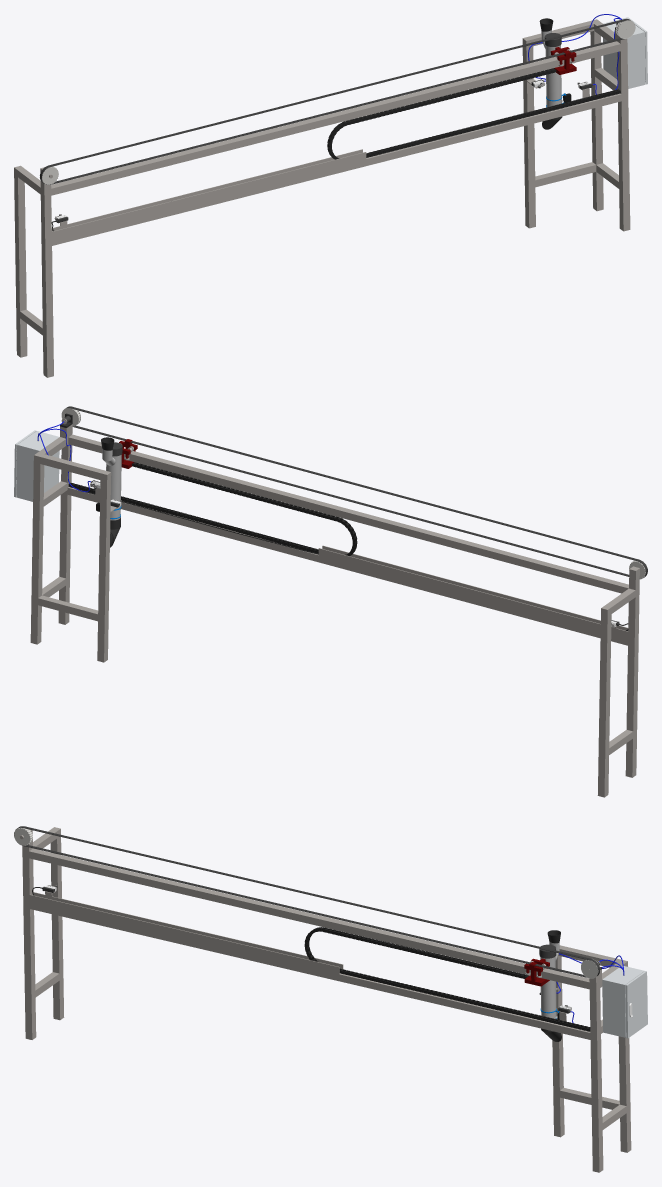
The model's file is Smart Chicken Feeder.glb.
The picture shows the model from 3 angles, top to bottom: view 1: azimuth 30°, elevation 25°; view 2: azimuth 150°, elevation 25°; view 3: azimuth 330°, elevation 25°; orthographic projection.
Parts seen in each view (by area): view 1: Solid1 (×4); view 2: Solid1 (×4); view 3: Solid1 (×4), Solid6.
Boxes of the visible parts, left/top/right/bottom form: Solid1 (×4): left=14, top=18, right=645, bottom=377; Solid1 (×4): left=16, top=406, right=647, bottom=797; Solid1 (×4): left=14, top=826, right=644, bottom=1172; Solid6: left=625, top=971, right=647, bottom=1038.
Bounding box in the file's own units: 3.64 × 1.27 × 0.401.
